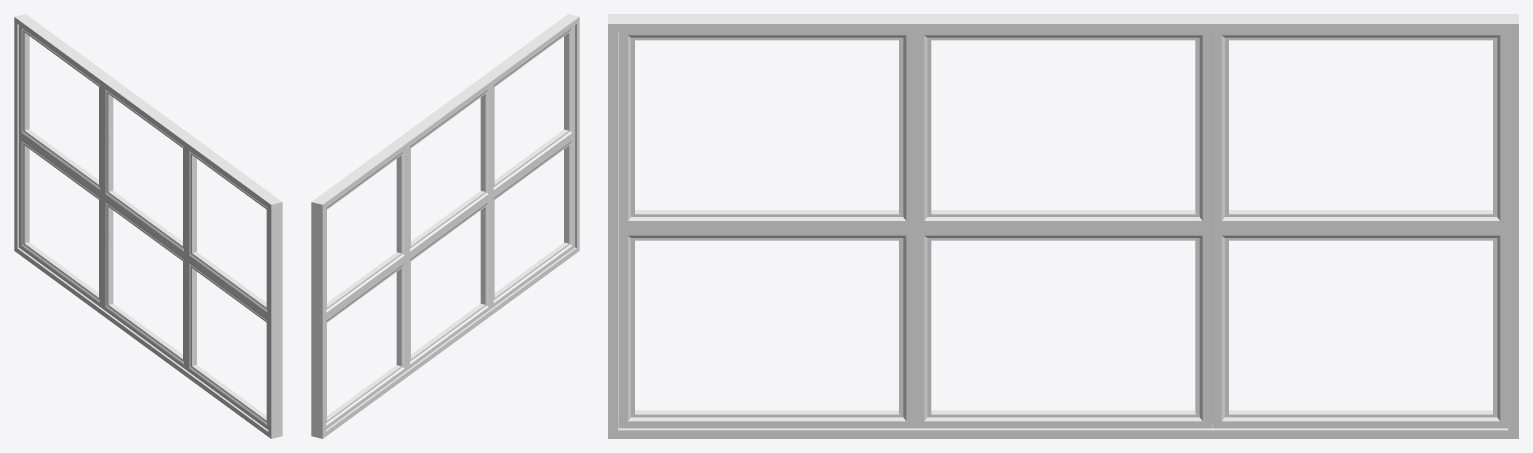
The model's file is RoomWindowFrame_Big.FBX.
3 renders of one model, left to right at view 1: azimuth 30°, elevation 25°; view 2: azimuth 150°, elevation 25°; view 3: azimuth 270°, elevation 25°, orthographic. The views are drawn at different scales.
Visible parts, largest first — view 1: Window_Frames_Big; view 2: Window_Frames_Big; view 3: Window_Frames_Big.
Part boxes in pixels (box(x1,y1,x2,y2)): Window_Frames_Big: box(14, 14, 282, 438); Window_Frames_Big: box(311, 14, 579, 438); Window_Frames_Big: box(608, 14, 1518, 438).
Bounding box in the file's own units: 0.0635 × 1.23 × 2.45.
